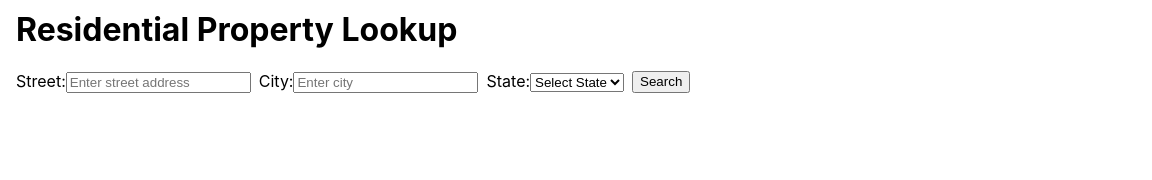
Test: App Component Tests › should display an error message if no schools are found
In the field with placeholder "Enter street address": [158, 82] box [66, 72, 251, 93], type "1252 Borregas Ave"
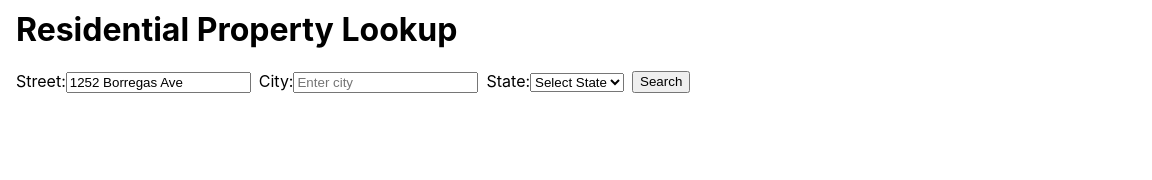
In the field with placeholder "Enter city": [386, 82] box [294, 72, 478, 93], type "Sunnyvale"
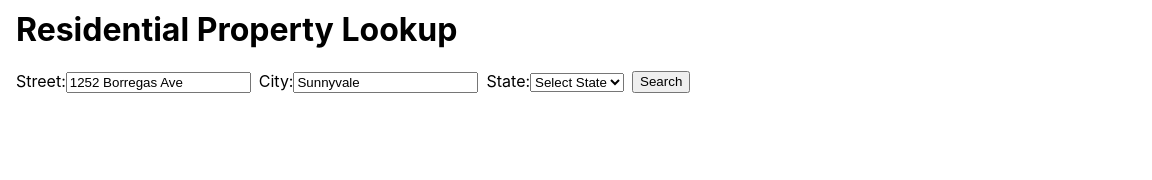
Select "CA" in the dropdown showing "Select State": [577, 82] box [530, 73, 624, 92]
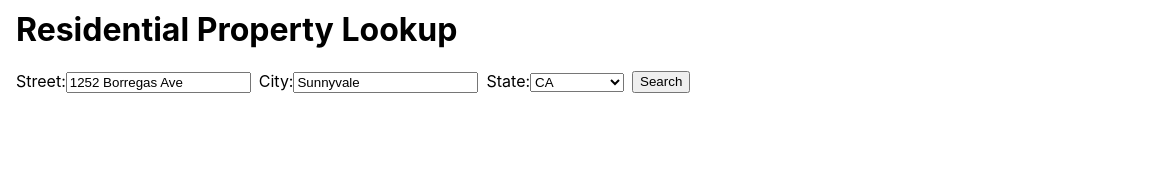
Click the button "Search": [661, 82] box [632, 71, 690, 93]
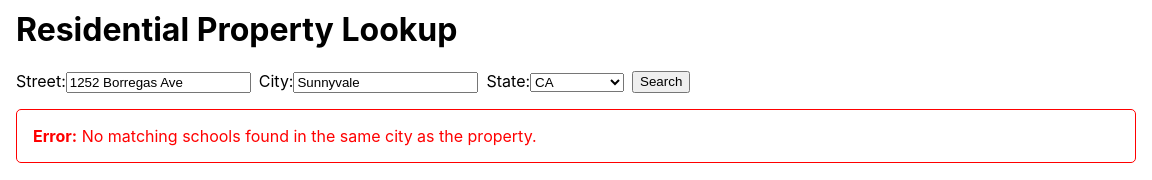
Expected: the text "No matching schools found in the same city as the property." is shown, [82, 126, 537, 146]
